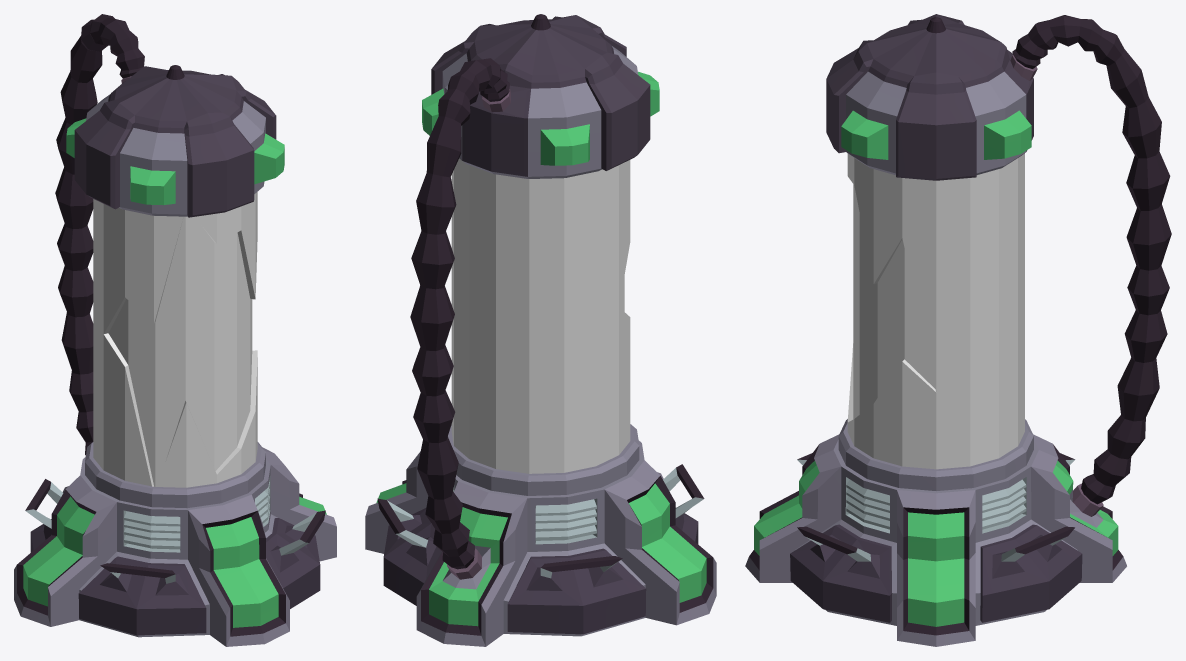
The model's file is Containment_Broken.fbx.
3 renders of one model, left to right at view 1: azimuth 30°, elevation 25°; view 2: azimuth 150°, elevation 25°; view 3: azimuth 270°, elevation 25°, orthographic. The views are drawn at different scales.
Visible parts, largest first — view 1: ContainmentBase, ContainmentLiquid, ContainmentGlass_Broken; view 2: ContainmentBase, ContainmentGlass_Broken; view 3: ContainmentBase, ContainmentGlass_Broken, ContainmentLiquid.
Part boxes in pixels (x1,y1,x2,y2): ContainmentBase: (14, 14, 336, 646); ContainmentLiquid: (108, 216, 252, 486); ContainmentGlass_Broken: (93, 192, 257, 487); ContainmentBase: (365, 14, 716, 646); ContainmentGlass_Broken: (451, 158, 630, 473); ContainmentBase: (745, 14, 1171, 646); ContainmentGlass_Broken: (847, 153, 1024, 469); ContainmentLiquid: (853, 184, 935, 419).
Bounding box in the file's own units: 681 × 1082 × 760.
